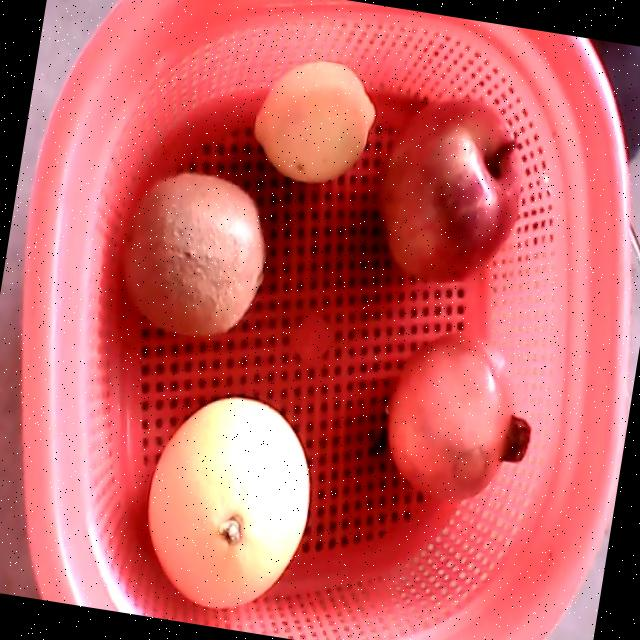apple: (379, 97, 523, 284)
kiwi: (119, 171, 266, 337)
lemon: (254, 62, 375, 183)
orange: (147, 397, 310, 610)
pomegranate: (385, 329, 532, 503)
